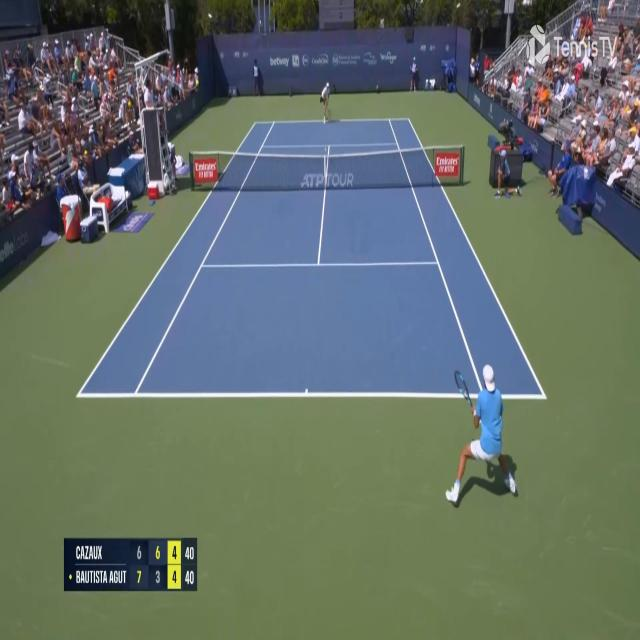tennis-player: (443, 356, 520, 512), (319, 80, 338, 126)
